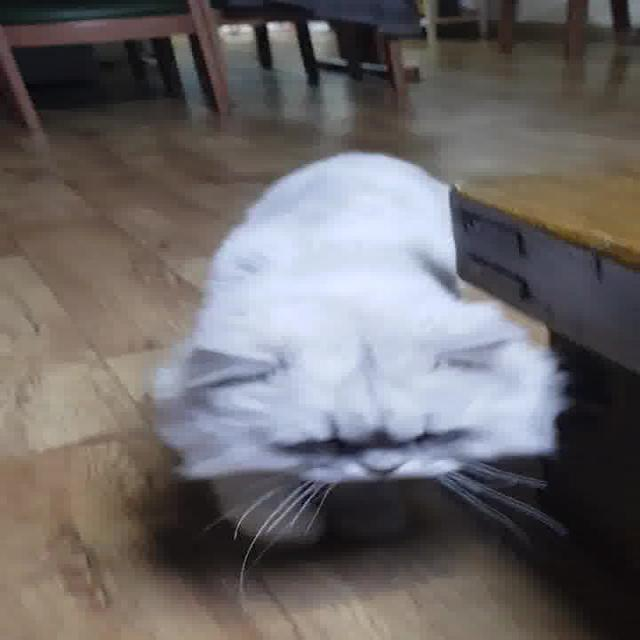cat: (145, 145, 583, 570)
